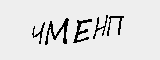Е: (73, 17, 93, 46)
М: (44, 17, 71, 48)
Н: (93, 13, 108, 41)
П: (105, 13, 127, 36)
Ч: (27, 20, 46, 49)
